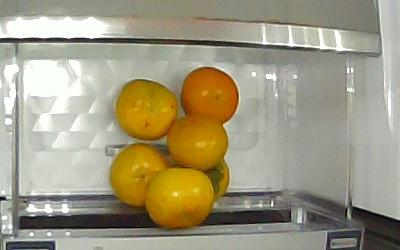persimmon: (145, 166, 215, 228), (113, 79, 181, 142), (109, 143, 171, 206), (180, 66, 239, 124), (167, 116, 228, 169), (166, 153, 230, 201)
